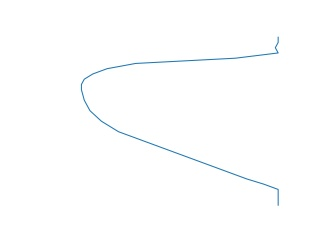beach: (74, 37, 286, 209)
